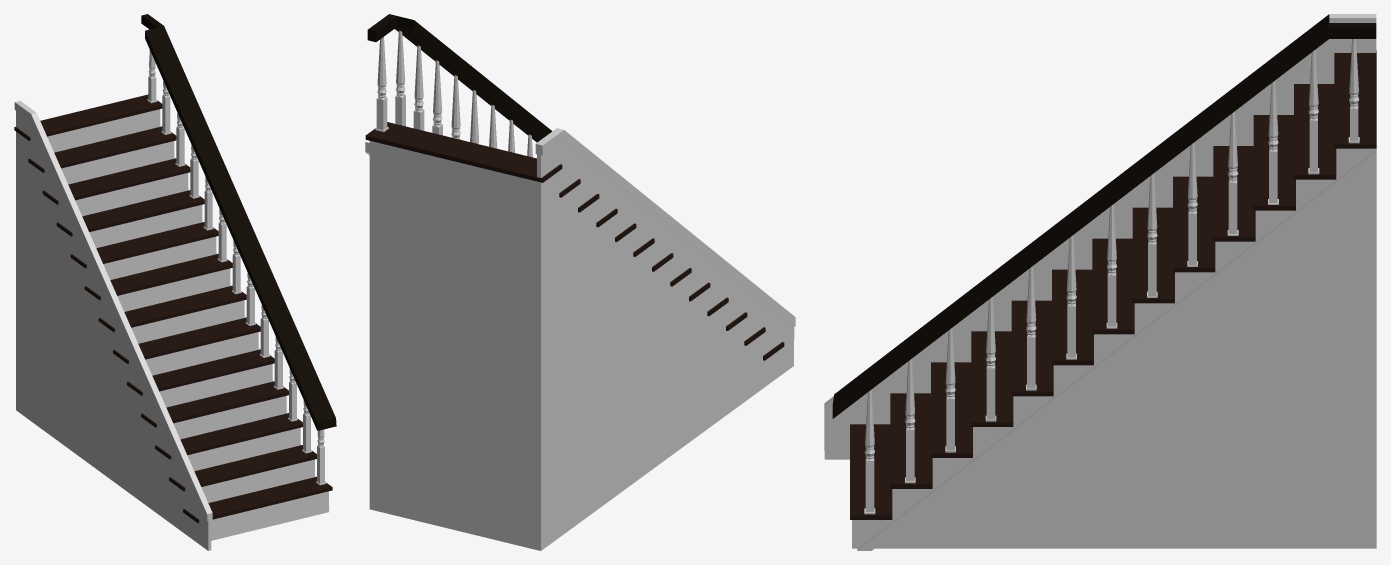
File: StairModern.glb
3 views of the same model, side by side, from view 1: azimuth 30°, elevation 25°; view 2: azimuth 150°, elevation 25°; view 3: azimuth 270°, elevation 25° (orthographic). The views are drawn at different scales.
Visible parts, largest first — view 1: Node; view 2: Node; view 3: Node.
Boxes of the visible parts, x1,y1,x2,y2 form: Node: (14, 14, 336, 550); Node: (365, 14, 795, 550); Node: (824, 14, 1376, 550).
Size of the model in its own units: 5.54 by 14.28 by 13.69.
